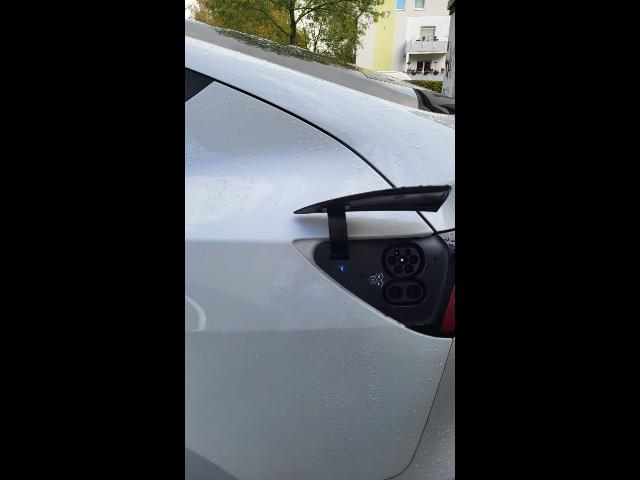inlet: (386, 248, 420, 277)
inlet-above-left: (394, 249, 401, 256)
inlet-above-right: (404, 249, 411, 256)
inlet-below-left: (393, 265, 403, 274)
inlet-below-right: (404, 264, 414, 274)
inlet-circle: (398, 255, 408, 265)
inlet-circle-left: (387, 256, 397, 266)
inlet-circle-right: (409, 255, 418, 265)
inlet-minus: (406, 284, 421, 300)
inlet-plus: (388, 285, 404, 300)
